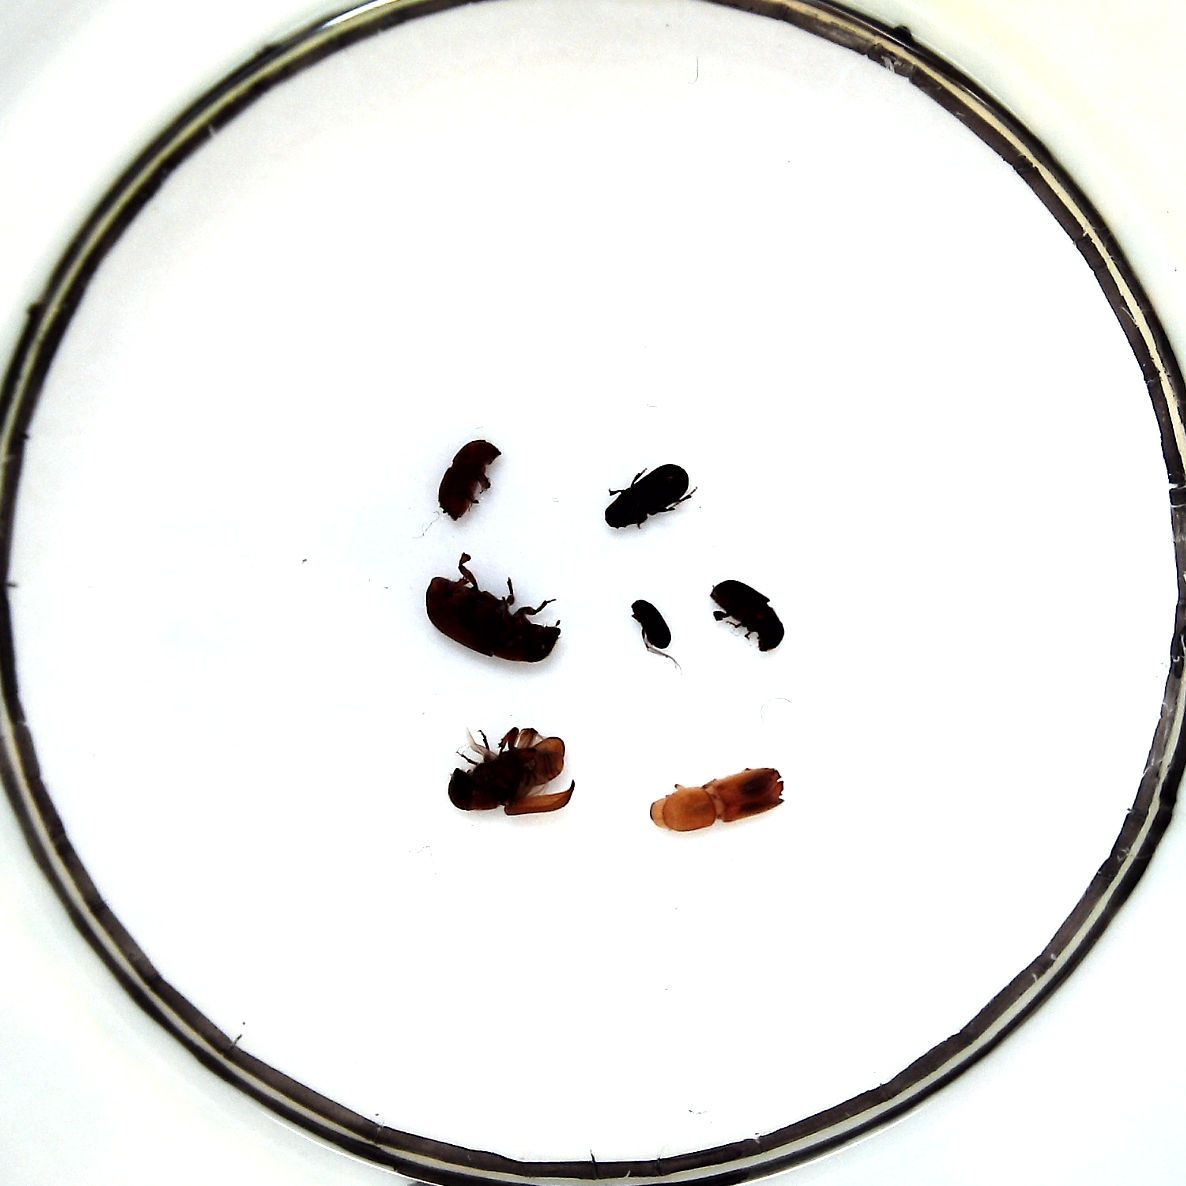Boerner: (648, 765, 785, 833)
Leconte: (425, 576, 562, 663), (447, 739, 565, 811)
armandi: (710, 579, 785, 652), (606, 464, 687, 529)
coleoptera: (630, 600, 671, 651)
linnaeus: (439, 440, 501, 520)
